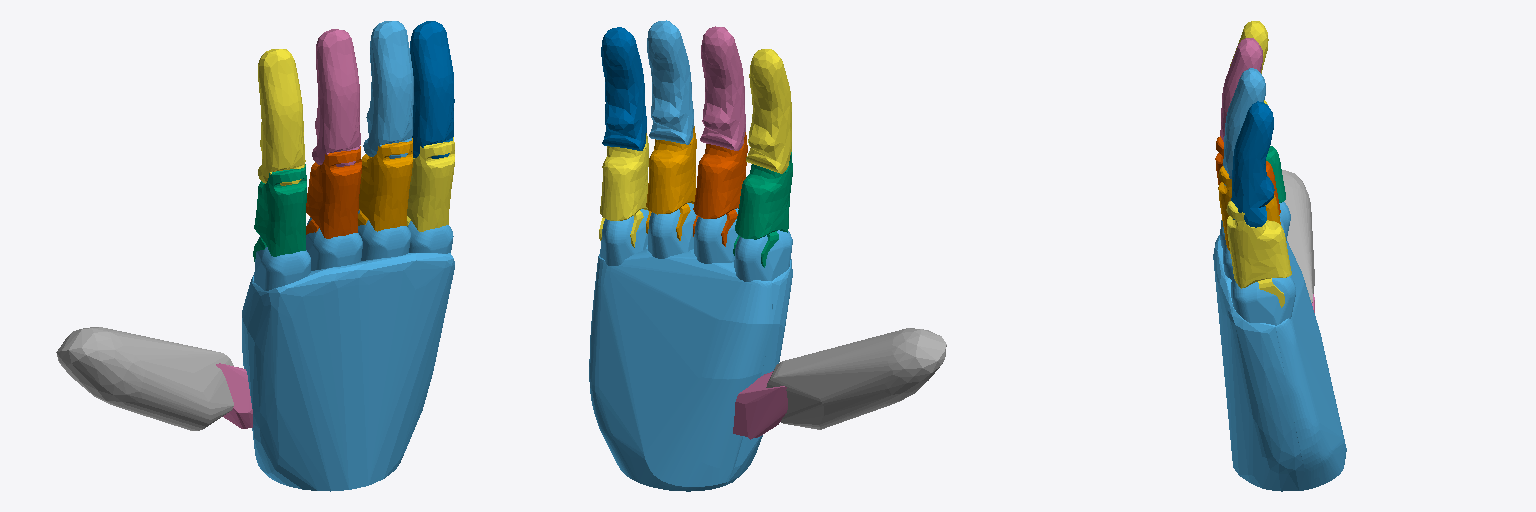
URDF robot description (ability_hand):
<!--
	NOTES:
	Units:
		Distance: m
		Angles: rad (only option)
		Mass: kg
		Inertia: kg*m^2
		
	Notes on intertia:
		-The inertias are calculated for uniform density with weights that may or may not be accurate.
		At the time of this writing only the thumb flexor weight is correct. The palm is a 'best guess' 
		approximation and the fingers are likely off by an order of magnitude
	
	Notes on finger q2:
		-The hand is a 4 bar linkage mechanism forming an 'X'. 4 bar linkages are not supported in the 
		urdf format. The motion of the second finger joint is fully defined by the motion of the first 
		finger joint. The calculation to find the index finger second joint angle given the first is provided
		in a matlab script elsewhere in this repository.
-->
<robot name="ability_hand">


	<link name="base">
		<visual name="wrist_mesh">
			<origin rpy = "0 0 0" xyz = "0 0 0"/>
			<geometry>
				<mesh filename="objects/wristmesh.obj"/>
			</geometry>
		</visual>		
		<inertial>	<!-- the mass and inertia here are NOT correct -->
			<mass value = "0.200"/>
			<inertia ixx="978.26e-6" ixy = "87.34e-6" ixz = "322.99e-6" iyy = "1244.78e-6" iyz = "244.74e-6" izz = "456.22e-6" />
			<origin xyz = "22.41911e-3 -0.15798201e-3 -0.01319866e-3" rpy = "0 0 0"/>
		</inertial>
	</link>
	<joint name="wrist2thumb" type="fixed">
		<parent link="base"/>
		<child link="thumb_base"/>
		<origin xyz = "-24.0476665e-3 3.78124745e-3 32.32964923e-3" rpy = "3.14148426 -0.08848813 -3.14036612"/>
	</joint>
  
	<link name="thumb_base" >
		<inertial>
			<mass value = "0.200"/>
			<inertia ixx="978.26e-6" ixy = "87.34e-6" ixz = "322.99e-6" iyy = "1244.78e-6" iyz = "244.74e-6" izz = "456.22e-6" />
			<origin xyz = "22.41911e-3 -0.15798201e-3 -0.01319866e-3" rpy = "0 0 0"/>
		</inertial>
						
		<visual name="palm_mesh">
			<origin rpy = "0 0 0" xyz = "0 0 0"/>
			<geometry>
				<mesh filename="objects/FB_palm_ref_MIR.obj"/>
			</geometry>
		</visual>		
	</link>
	

	
	<link name="index_L1" >
		<inertial>
			<mass value = "0.00635888"/>
			<inertia ixx="0.29766e-6" ixy = "-0.06447133e-6" ixz = "-0.00423315e-6" iyy = "3.6947967e-6" iyz = "0.00083028e-6" izz = "3.8176336e-6" />
			<origin xyz = "22.41911e-3 -0.15798201e-3 -0.01319866e-3" rpy = "0 0 0"/>
		</inertial>
		<visual name="index_mesh_1">
			<origin rpy = "0 0 0" xyz = "0 0 0"/>
			<geometry>
				<mesh filename="objects/idx-F1.obj"/>
			</geometry>
		</visual>
	</link>
	<link name="index_L2" >
		<inertial>
			<mass value = "0.00645"/>
			<inertia ixx="0.82671e-6" ixy = "-1.08876e-6" ixz = "-0.00037e-6" iyy = "1.98028e-6" iyz = "0.00081e-6" izz = "2.64638e-6" />
			<origin rpy = "0 0 0" xyz = "13.36818e-3 -8.75392e-3 -0.02886e-3"/>
		</inertial>		
		<visual name="index_mesh_2">
			<origin rpy = "0 0 0" xyz = "0 0 0"/>
			<geometry>
				<mesh filename="idx-F2-Lg.obj"/>
			</geometry>
		</visual>
	</link>
	<joint name="index_q1" type="revolute">
		<parent link="thumb_base"/>
		<child link="index_L1"/>
		<origin xyz = " 9.49e-3 -13.04e-3 -62.95e-3 " rpy = " -1.1595426535897932 1.284473 -1.0510016535897932 " />
		<axis xyz="0 0 1"/>
		<limit lower = "0" upper = "2.0943951" effort = "6.0" velocity = "8.0677777442"/>		<!-- angles in rad, efforts in N-m, velocity in rad/s -->
		<dynamics damping = "0.001" friction = "0.001" />	<!-- Friction coefficient is not from quantitative measurement -->
	</joint>
	<joint name="index_q2" type="revolute">
		<parent link="index_L1"/>
		<child link="index_L2"/>
		<origin xyz = "38.472723e-3 3.257695e-3 0.000000e-3" rpy = "0 0 0.084474"/>
		<axis xyz="0 0 1"/>
		<limit lower = "0.0" upper = "2.6586" effort = "6.0" velocity = "8.0677777442"/>		<!-- angles in rad, efforts in N-m, velocity in rad/s -->
		<dynamics damping = "0.001" friction = "0.001" />	<!-- Friction coefficient is not from quantitative measurement -->
		<mimic joint = "index_q1" multiplier =  "1.05851325" offset = "0.72349796"/>
	</joint>
	<link name="index_anchor"/>
	<joint name="idx_anchor" type="fixed">
		<parent link = "index_L2"/>
		<child link = "index_anchor"/>
		<origin rpy = "0 0 0" xyz = "31.5541e-3  -10.44e-3 0.14e-3"/>
	</joint>
	

	<link name="middle_L1" >
		<inertial>
			<mass value = "0.00635888"/>
			<inertia ixx="0.29766e-6" ixy = "-0.06447133e-6" ixz = "-0.00423315e-6" iyy = "3.6947967e-6" iyz = "0.00083028e-6" izz = "3.8176336e-6" />
			<origin xyz = "22.41911e-3 -0.15798201e-3 -0.01319866e-3" rpy = "0 0 0"/>
		</inertial>
		
		<visual name="middle_mesh_1">
			<origin rpy = "0 0 0" xyz = "0 0 0"/>
			<geometry>
				<mesh filename="objects/idx-F1.obj"/>
			</geometry>
		</visual>
		
	</link>
	<link name="middle_L2" >
		<inertial>
			<mass value = "0.00645"/>
			<inertia ixx="0.82671e-6" ixy = "-1.08876e-6" ixz = "-0.00037e-6" iyy = "1.98028e-6" iyz = "0.00081e-6" izz = "2.64638e-6" />
			<origin rpy = "0 0 0" xyz = "13.36818e-3 -8.75392e-3 -0.02886e-3"/>
		</inertial>
		<visual name="middle_mesh_2">
			<origin rpy = "0 0 0" xyz = "0 0 0"/>
			<geometry>
				<mesh filename="objects/idx-F2-Lg.obj"/>
			</geometry>
		</visual>
	</link>
	<joint name="middle_q1" type="revolute">
		<parent link="thumb_base"/>
		<child link="middle_L1"/>
		<origin xyz = " -9.653191e-3 -15.310271e-3 -67.853949e-3 " rpy = " -1.2810616535897934 1.308458 -1.2453756535897933 " />
		<limit lower = "0" upper = "2.0943951" effort = "6.0" velocity = "8.0677777442"/>		<!-- angles in rad, efforts in N-m, velocity in rad/s -->
		<dynamics damping = "0.001" friction = "0.001" />	<!-- Friction coefficient is not from quantitative measurement -->
		<axis xyz="0 0 1"/>
	</joint>
	<joint name="middle_q2" type="revolute">
		<parent link="middle_L1"/>
		<child link="middle_L2"/>
		<origin xyz = "38.472723e-3 3.257695e-3 0.000000" rpy = "0 0 0.084474"/>
		<axis xyz="0 0 1"/>
		<limit lower = "0.0" upper = "2.6586" effort = "6.0" velocity = "8.0677777442"/>		<!-- angles in rad, efforts in N-m, velocity in rad/s -->
		<dynamics damping = "0.001" friction = "0.001" />	<!-- Friction coefficient is not from quantitative measurement -->
		<mimic joint = "middle_q1" multiplier =  "1.05851325" offset = "0.72349796"/>
	</joint>
	<link name="middle_anchor"/>
	<joint name="mid_anchor" type="fixed">
		<parent link = "middle_L2"/>
		<child link = "middle_anchor"/>
		<origin rpy = "0 0 0" xyz = "31.5541e-3  -10.44e-3 0.14e-3"/>
	</joint>





	<link name="ring_L1" >
		<inertial>
			<mass value = "0.00635888"/>
			<inertia ixx="0.29766e-6" ixy = "-0.06447133e-6" ixz = "-0.00423315e-6" iyy = "3.6947967e-6" iyz = "0.00083028e-6" izz = "3.8176336e-6" />
			<origin xyz = "22.41911e-3 -0.15798201e-3 -0.01319866e-3" rpy = "0 0 0"/>
		</inertial>
		
		<visual name="ring_mesh_1">
			<origin rpy = "0 0 0" xyz = "0 0 0"/>
			<geometry>
				<mesh filename="objects/idx-F1.obj"/>
			</geometry>
		</visual>
	</link>
	<link name="ring_L2" >
		<inertial>
			<mass value = "0.00645"/>
			<inertia ixx="0.82671e-6" ixy = "-1.08876e-6" ixz = "-0.00037e-6" iyy = "1.98028e-6" iyz = "0.00081e-6" izz = "2.64638e-6" />
			<origin rpy = "0 0 0" xyz = "13.36818e-3 -8.75392e-3 -0.02886e-3"/>
		</inertial>
		<visual name="ring_mesh_2">
			<origin rpy = "0 0 0" xyz = "0 0 0"/>
			<geometry>
				<mesh filename="objects/idx-F2-Lg.obj"/>
			</geometry>
		</visual>		
	</link>
	<joint name="ring_q1" type="revolute">
		<parent link="thumb_base"/>
		<child link="ring_L1"/>
		<origin xyz = " -29.95426e-3 -14.212492e-3 -67.286105e-3 " rpy = " -1.424994653589793 1.321452 -1.4657306535897934 " />
		<limit lower = "0" upper = "2.0943951" effort = "6.0" velocity = "8.0677777442"/>		<!-- angles in rad, efforts in N-m, velocity in rad/s -->
		<dynamics damping = "0.001" friction = "0.001" />	<!-- Friction coefficient is not from quantitative measurement -->
		<axis xyz="0 0 1"/>
	</joint>
	<joint name="ring_q2" type="revolute">
		<parent link="ring_L1"/>
		<child link="ring_L2"/>
		<origin xyz = "38.472723e-3 3.257695e-3 0.000000" rpy = "0 0 0.084474"/>
		<axis xyz="0 0 1"/>
		<limit lower = "0.0" upper = "2.6586" effort = "6.0" velocity = "8.0677777442"/>		<!-- angles in rad, efforts in N-m, velocity in rad/s -->
		<dynamics damping = "0.001" friction = "0.001" />	<!-- Friction coefficient is not from quantitative measurement -->
		<mimic joint = "ring_q1" multiplier =  "1.05851325" offset = "0.72349796"/>
	</joint>
	<link name="ring_anchor"/>
	<joint name="rng_anchor" type="fixed">
		<parent link = "ring_L2"/>
		<child link = "ring_anchor"/>
		<origin rpy = "0 0 0" xyz = "31.5541e-3  -10.44e-3 0.14e-3"/>
	</joint>







	<link name="pinky_L1" >
		<inertial>
			<mass value = "0.00635888"/>
			<inertia ixx="0.29766e-6" ixy = "-0.06447133e-6" ixz = "-0.00423315e-6" iyy = "3.6947967e-6" iyz = "0.00083028e-6" izz = "3.8176336e-6" />
			<origin xyz = "22.41911e-3 -0.15798201e-3 -0.01319866e-3" rpy = "0 0 0"/>
		</inertial>
		
		<visual name="pinky_mesh_1">
			<origin rpy = "0 0 0" xyz = "0 0 0"/>
			<geometry>
				<mesh filename="objects/idx-F1.obj"/>
			</geometry>
		</visual>
		
	</link>
	<link name="pinky_L2" >
		<inertial>
			<mass value = "0.00645"/>
			<inertia ixx="0.82671e-6" ixy = "-1.08876e-6" ixz = "-0.00037e-6" iyy = "1.98028e-6" iyz = "0.00081e-6" izz = "2.64638e-6" />
			<origin rpy = "0 0 0" xyz = "13.36818e-3 -8.75392e-3 -0.02886e-3"/>
		</inertial>
		<visual name="pinky_mesh_2">
			<origin rpy = "0 0 0" xyz = "0 0 0"/>
			<geometry>
				<mesh filename="objects/idx-F2-Lg.obj"/>
			</geometry>
		</visual>
		
	</link>
	<joint name="pinky_q1" type="revolute">
		<parent link="thumb_base"/>
		<child link="pinky_L1"/>
		<origin xyz = " -49.521293e-3 -11.004583e-3 -63.029065e-3 " rpy = " -1.3764826535897934 1.32222 -1.4832096535897932 " />
		<limit lower = "0" upper = "2.0943951" effort = "6.0" velocity = "8.0677777442"/>		<!-- angles in rad, efforts in N-m, velocity in rad/s -->
		<dynamics damping = "0.001" friction = "0.001" />	<!-- Friction coefficient is not from quantitative measurement -->
		<axis xyz="0 0 1"/>
	</joint>
	<joint name="pinky_q2" type="revolute">
		<parent link="pinky_L1"/>
		<child link="pinky_L2"/>
		<origin xyz = "38.472723e-3 3.257695e-3 0.000000" rpy = "0 0 0.084474"/>
		<limit lower = "0.0" upper = "2.6586" effort = "6.0" velocity = "8.0677777442"/>		<!-- angles in rad, efforts in N-m, velocity in rad/s -->
		<dynamics damping = "0.001" friction = "0.001" />	<!-- Friction coefficient is not from quantitative measurement -->
		<axis xyz="0 0 1"/>
		<mimic joint = "pinky_q1" multiplier =  "1.05851325" offset = "0.72349796"/>
	</joint>
	<link name="pinky_anchor"/>
	<joint name="pnky_anchor" type="fixed">
		<parent link = "pinky_L2"/>
		<child link = "pinky_anchor"/>
		<origin rpy = "0 0 0" xyz = "31.5541e-3  -10.44e-3 0.14e-3"/>
	</joint>






	<link name="thumb_L1" >
		<inertial>
			<mass value = "0.00268342"/>
			<inertia ixx="0.16931e-6" ixy = "-0.076214e-6" ixz = "-0.16959148e-6" iyy = "0.77769934e-6" iyz = "0.0156622e-6" izz = "0.7249122e-6" />
			<origin rpy = "0 0 0" xyz = "14.606e-3 -1.890854e-3 -3.1155356e-3"/>
		</inertial>
		
		<visual name="thumb_mesh_1">
			<origin rpy = "0 0 0" xyz = "0 0 0"/>
			<geometry>
				<mesh filename="objects/thumb-F1-MIR.obj"/>
			</geometry>
		</visual>
		
	</link>
	<link name="thumb_L2" >
		<inertial>
			<mass value = "0.0055"/>
			<inertia ixx="4.4789082e-6" ixy = "4.4789082e-6" ixz = "-0.62144934e-6" iyy = "15.600996e-6" iyz = "-0.07466143e-6" izz = "17.908554e-6" />
			<origin rpy = "0 0 0" xyz = "30.020522e-3 5.59476e-3 -4.1504356e-3"/>
		</inertial>
		
		<visual name="thumb_mesh_2">
			<origin rpy = "0 0 0" xyz = "0 0 0"/>
			<geometry>
				<mesh filename="objects/thumb-F2-right.obj"/>
			</geometry>
		</visual>
		
	</link>
	<joint name="thumb_q1" type="revolute">
		<parent link="thumb_base"/>
		<child link="thumb_L1"/>
		<origin xyz = " 0.0 0.0 0.0 " rpy = " 3.141592653589793 -0.0 -0.18884434641020664 " />
		<axis xyz="0 0 1"/>
		<limit lower = "-2.0943951" upper = "0" effort = "1.2" velocity = "40.338888721"/>		<!-- angles in rad, efforts in N-m, velocity in rad/s -->
		<dynamics damping = "0.001" friction = "0.001" />	<!-- Friction coefficient is not from quantitative measurement -->
	</joint>
	<joint name="thumb_q2" type="revolute">
		<parent link="thumb_L1"/>
		<child link="thumb_L2"/>
		<origin xyz = " 27.8283501e-3 1.7436510745838653e-19 14.7507e-3 " rpy = " 1.832595714594045 -0.0 5.366520605522463e-18 " />
		<axis xyz="0 0 1"/>
		<limit lower = "0" upper = "2.0943951" effort = "6.0" velocity = "8.0677777442"/>		<!-- angles in rad, efforts in N-m, velocity in rad/s -->
		<dynamics damping = "0.001" friction = "0.001" />	<!-- Friction coefficient is not from quantitative measurement -->		
	</joint>
	<link name="thumb_anchor"/>
	<joint name="thmb_anchor" type="fixed">
		<parent link = "thumb_L2"/>
		<child link = "thumb_anchor"/>
		<origin rpy = "0 0 0" xyz = "52.00122724e-3 28.00869333e-3 6.98483578e-3"/>
	</joint>




	<sensor name="fsr1">

		<parent link = "index_L2"/>

		<origin xyz = "[ 0.03678129 -0.01966348  0.        ]" rpy = "[-1.57079633  1.11908681 -1.57079633]"/>

	</sensor>


	<sensor name="fsr2">

		<parent link = "index_L2"/>

		<origin xyz = "[ 0.03087755 -0.01531625  0.        ]" rpy = "[ 1.57079633 -0.25241514  1.57079633]"/>

	</sensor>


	<sensor name="fsr3">

		<parent link = "index_L2"/>

		<origin xyz = "[ 0.03118107 -0.01775288  0.004     ]" rpy = "[-1.57079633  0.51757639 -1.57079633]"/>

	</sensor>


	<sensor name="fsr4">

		<parent link = "index_L2"/>

		<origin xyz = "[ 0.01680497 -0.01308243  0.004     ]" rpy = "[-1.57079633  0.66148388 -1.57079633]"/>

	</sensor>


	<sensor name="fsr5">

		<parent link = "index_L2"/>

		<origin xyz = "[ 0.03118107 -0.01775288 -0.004     ]" rpy = "[-1.57079633  0.51757639 -1.57079633]"/>

	</sensor>


	<sensor name="fsr6">

		<parent link = "index_L2"/>

		<origin xyz = "[ 0.01680497 -0.01308243 -0.004     ]" rpy = "[-1.57079633  0.66148388 -1.57079633]"/>

	</sensor>


	<sensor name="fsr7">

		<parent link = "middle_L2"/>

		<origin xyz = "[ 0.03678129 -0.01966348  0.        ]" rpy = "[-1.57079633  1.11908681 -1.57079633]"/>

	</sensor>


	<sensor name="fsr8">

		<parent link = "middle_L2"/>

		<origin xyz = "[ 0.03087755 -0.01531625  0.        ]" rpy = "[ 1.57079633 -0.25241514  1.57079633]"/>

	</sensor>


	<sensor name="fsr9">

		<parent link = "middle_L2"/>

		<origin xyz = "[ 0.03118107 -0.01775288  0.004     ]" rpy = "[-1.57079633  0.51757639 -1.57079633]"/>

	</sensor>


	<sensor name="fsr10">

		<parent link = "middle_L2"/>

		<origin xyz = "[ 0.01680497 -0.01308243  0.004     ]" rpy = "[-1.57079633  0.66148388 -1.57079633]"/>

	</sensor>


	<sensor name="fsr11">

		<parent link = "middle_L2"/>

		<origin xyz = "[ 0.03118107 -0.01775288 -0.004     ]" rpy = "[-1.57079633  0.51757639 -1.57079633]"/>

	</sensor>


	<sensor name="fsr12">

		<parent link = "middle_L2"/>

		<origin xyz = "[ 0.01680497 -0.01308243 -0.004     ]" rpy = "[-1.57079633  0.66148388 -1.57079633]"/>

	</sensor>


	<sensor name="fsr13">

		<parent link = "ring_L2"/>

		<origin xyz = "[ 0.03678129 -0.01966348  0.        ]" rpy = "[-1.57079633  1.11908681 -1.57079633]"/>

	</sensor>


	<sensor name="fsr14">

		<parent link = "ring_L2"/>

		<origin xyz = "[ 0.03087755 -0.01531625  0.        ]" rpy = "[ 1.57079633 -0.25241514  1.57079633]"/>

	</sensor>


	<sensor name="fsr15">

		<parent link = "ring_L2"/>

		<origin xyz = "[ 0.03118107 -0.01775288  0.004     ]" rpy = "[-1.57079633  0.51757639 -1.57079633]"/>

	</sensor>


	<sensor name="fsr16">

		<parent link = "ring_L2"/>

		<origin xyz = "[ 0.01680497 -0.01308243  0.004     ]" rpy = "[-1.57079633  0.66148388 -1.57079633]"/>

	</sensor>


	<sensor name="fsr17">

		<parent link = "ring_L2"/>

		<origin xyz = "[ 0.03118107 -0.01775288 -0.004     ]" rpy = "[-1.57079633  0.51757639 -1.57079633]"/>

	</sensor>


	<sensor name="fsr18">

		<parent link = "ring_L2"/>

		<origin xyz = "[ 0.01680497 -0.01308243 -0.004     ]" rpy = "[-1.57079633  0.66148388 -1.57079633]"/>

	</sensor>


	<sensor name="fsr19">

		<parent link = "pinky_L2"/>

		<origin xyz = "[ 0.03678129 -0.01966348  0.        ]" rpy = "[-1.57079633  1.11908681 -1.57079633]"/>

	</sensor>


	<sensor name="fsr20">

		<parent link = "pinky_L2"/>

		<origin xyz = "[ 0.03087755 -0.01531625  0.        ]" rpy = "[ 1.57079633 -0.25241514  1.57079633]"/>

	</sensor>


	<sensor name="fsr21">

		<parent link = "pinky_L2"/>

		<origin xyz = "[ 0.03118107 -0.01775288  0.004     ]" rpy = "[-1.57079633  0.51757639 -1.57079633]"/>

	</sensor>


	<sensor name="fsr22">

		<parent link = "pinky_L2"/>

		<origin xyz = "[ 0.01680497 -0.01308243  0.004     ]" rpy = "[-1.57079633  0.66148388 -1.57079633]"/>

	</sensor>


	<sensor name="fsr23">

		<parent link = "pinky_L2"/>

		<origin xyz = "[ 0.03118107 -0.01775288 -0.004     ]" rpy = "[-1.57079633  0.51757639 -1.57079633]"/>

	</sensor>


	<sensor name="fsr24">

		<parent link = "pinky_L2"/>

		<origin xyz = "[ 0.01680497 -0.01308243 -0.004     ]" rpy = "[-1.57079633  0.66148388 -1.57079633]"/>

	</sensor>


	<sensor name="fsr25">

		<parent link = "thumb_L2"/>

		<origin xyz = "[0.055422 0.023513 0.005055]" rpy = "[-1.57079633 -0.40123853 -1.57079633]"/>

	</sensor>


	<sensor name="fsr26">

		<parent link = "thumb_L2"/>

		<origin xyz = "[0.047909 0.02312  0.005728]" rpy = "[-1.57079633 -0.44961601 -1.57079633]"/>

	</sensor>


	<sensor name="fsr27">

		<parent link = "thumb_L2"/>

		<origin xyz = "[ 0.048227  0.022352 -0.000805]" rpy = "[-1.57079633 -0.43229053 -1.57079633]"/>

	</sensor>


	<sensor name="fsr28">

		<parent link = "thumb_L2"/>

		<origin xyz = "[ 0.036868  0.017111 -0.001369]" rpy = "[nan nan nan]"/>

	</sensor>


	<sensor name="fsr29">

		<parent link = "thumb_L2"/>

		<origin xyz = "[0.049435 0.019437 0.01097 ]" rpy = "[-1.57079633 -0.44946695 -1.57079633]"/>

	</sensor>


	<sensor name="fsr30">

		<parent link = "thumb_L2"/>

		<origin xyz = "[0.038158 0.013997 0.011211]" rpy = "[nan nan nan]"/>

	</sensor>


</robot>

--- What the picture shows (computed from the rendered views, not written in the file) ---
Views: 3 orthographic renders of the robot side by side, from view 1: azimuth 30°, elevation 25°; view 2: azimuth 150°, elevation 25°; view 3: azimuth 270°, elevation 25°.
Robot: ability_hand — 17 links, 16 joints (10 revolute, 6 fixed); root link base; default pose: all joints at 0.
Links seen in each view (by area): view 1: thumb_base, thumb_L2, ring_L2, middle_L2, index_L2, pinky_L2, middle_L1, ring_L1, index_L1, pinky_L1, thumb_L1; view 2: thumb_base, thumb_L2, ring_L2, pinky_L2, middle_L2, index_L2, index_L1, ring_L1, middle_L1, pinky_L1, thumb_L1; view 3: thumb_base, pinky_L2, pinky_L1, thumb_L2, ring_L2, middle_L2, ring_L1, index_L2.
Boxes of the visible links, left/top/right/bottom form: thumb_base: left=242, top=210, right=454, bottom=491; thumb_L2: left=56, top=327, right=233, bottom=430; ring_L2: left=363, top=21, right=413, bottom=158; middle_L2: left=312, top=29, right=360, bottom=166; index_L2: left=258, top=49, right=305, bottom=185; pinky_L2: left=410, top=21, right=454, bottom=158; middle_L1: left=306, top=146, right=361, bottom=238; ring_L1: left=358, top=138, right=412, bottom=231; index_L1: left=253, top=164, right=306, bottom=261; pinky_L1: left=407, top=137, right=454, bottom=231; thumb_L1: left=216, top=363, right=252, bottom=428; thumb_base: left=589, top=203, right=792, bottom=491; thumb_L2: left=766, top=328, right=946, bottom=429; ring_L2: left=647, top=20, right=693, bottom=144; pinky_L2: left=601, top=27, right=646, bottom=150; middle_L2: left=700, top=26, right=745, bottom=150; index_L2: left=746, top=49, right=791, bottom=173; index_L1: left=733, top=152, right=792, bottom=267; ring_L1: left=646, top=126, right=696, bottom=240; middle_L1: left=693, top=132, right=747, bottom=246; pinky_L1: left=599, top=133, right=648, bottom=247; thumb_L1: left=733, top=371, right=787, bottom=439; thumb_base: left=1213, top=202, right=1346, bottom=491; pinky_L2: left=1231, top=101, right=1274, bottom=227; pinky_L1: left=1226, top=201, right=1291, bottom=307; thumb_L2: left=1282, top=170, right=1314, bottom=302; ring_L2: left=1223, top=68, right=1265, bottom=185; middle_L2: left=1220, top=38, right=1262, bottom=141; ring_L1: left=1218, top=166, right=1280, bottom=250; index_L2: left=1230, top=21, right=1268, bottom=104.
Bounding box of the posed robot: 0.157 × 0.053 × 0.1839 m (x, y, z).
Meshes: 7 distinct files referenced, 12 mesh visuals loaded (6 OBJ).